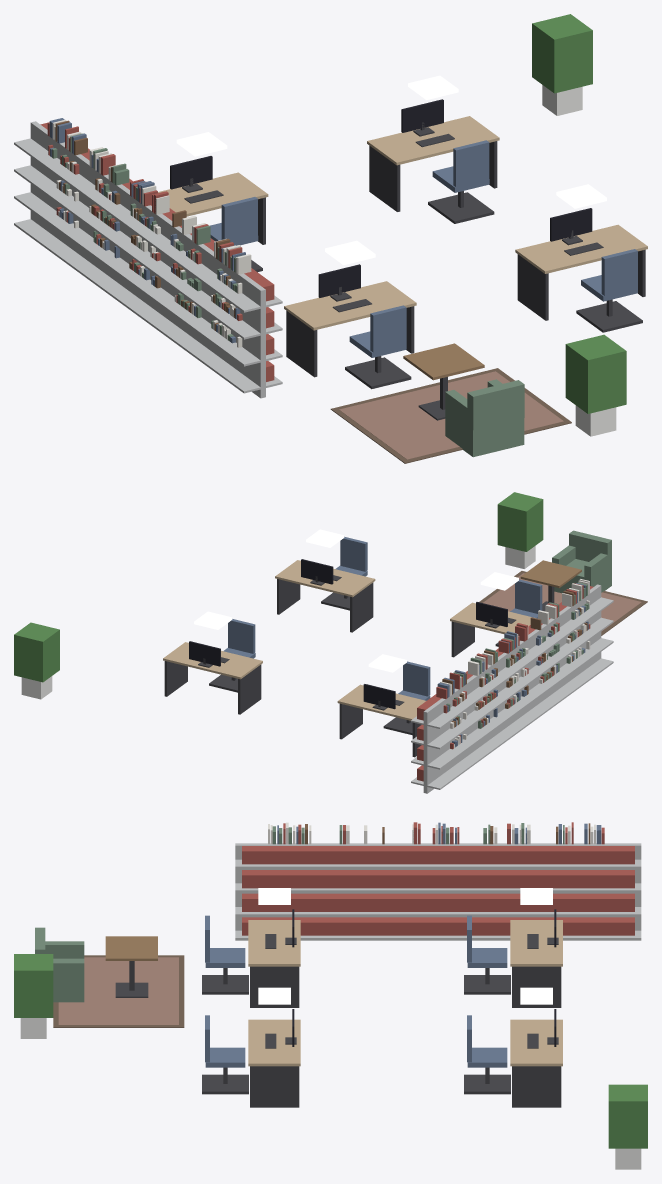
File: fine-s2.glb
3 views of the same model, one above another, from view 1: azimuth 30°, elevation 25°; view 2: azimuth 150°, elevation 25°; view 3: azimuth 270°, elevation 25° (orthographic). The views are drawn at different scales.
Visible parts, largest first — view 1: soft-s2, shelving.010, shelving.006, office-desk-real.005, office-desk-real.006, office-desk-real.007, plant-medium.002, shelving.009, plant-medium.003, sofa.001, shelving.007, shelving.008 (+10 smaller); view 2: soft-s2, shelving.006, shelving.010, office-desk-real.005, office-desk-real.007, shelving.007, plant-medium.002, plant-medium.003, shelving.008, shelving.009, office-desk-real.004, sofa.001 (+10 smaller); view 3: soft-s2, shelving.006, shelving.009, shelving.008, shelving.010, shelving.007, office-desk-real.005, office-desk-real.007, office-desk-real.004, office-desk-real.006, plant-medium.003, plant-medium.002 (+10 smaller).
Boxes of the visible parts, x1=… form: soft-s2: x1=47, y1=118, x2=571, y2=463; shelving.010: x1=177, y1=242, x2=282, y2=398; shelving.006: x1=14, y1=121, x2=97, y2=271; office-desk-real.005: x1=367, y1=99, x2=499, y2=211; office-desk-real.006: x1=284, y1=264, x2=416, y2=377; office-desk-real.007: x1=515, y1=208, x2=647, y2=320; plant-medium.002: x1=565, y1=334, x2=626, y2=436; shelving.009: x1=136, y1=212, x2=219, y2=361; plant-medium.003: x1=532, y1=14, x2=592, y2=115; sofa.001: x1=445, y1=379, x2=524, y2=457; shelving.007: x1=54, y1=152, x2=138, y2=301; shelving.008: x1=95, y1=182, x2=181, y2=333; soft-s2: x1=436, y1=571, x2=647, y2=749; shelving.006: x1=411, y1=675, x2=490, y2=793; shelving.010: x1=549, y1=584, x2=613, y2=699; office-desk-real.005: x1=163, y1=641, x2=262, y2=714; office-desk-real.007: x1=275, y1=559, x2=375, y2=632; shelving.007: x1=458, y1=653, x2=521, y2=766; plant-medium.002: x1=497, y1=492, x2=543, y2=568; plant-medium.003: x1=14, y1=622, x2=59, y2=699; shelving.008: x1=487, y1=629, x2=551, y2=740; shelving.009: x1=520, y1=607, x2=582, y2=718; office-desk-real.004: x1=337, y1=684, x2=425, y2=757; sofa.001: x1=552, y1=530, x2=611, y2=593; soft-s2: x1=53, y1=822, x2=604, y2=1027; shelving.006: x1=523, y1=843, x2=641, y2=940; shelving.009: x1=307, y1=843, x2=425, y2=940; shelving.008: x1=379, y1=843, x2=497, y2=940; shelving.010: x1=235, y1=843, x2=353, y2=940; shelving.007: x1=451, y1=843, x2=569, y2=940; office-desk-real.005: x1=510, y1=1009, x2=562, y2=1107; office-desk-real.007: x1=248, y1=1009, x2=300, y2=1107; office-desk-real.004: x1=510, y1=909, x2=562, y2=1007; office-desk-real.006: x1=248, y1=909, x2=300, y2=1007; plant-medium.003: x1=608, y1=1084, x2=647, y2=1169; plant-medium.002: x1=14, y1=954, x2=53, y2=1038.
Bounding box in the file's own units: 8.72 × 1.93 × 9.68.
